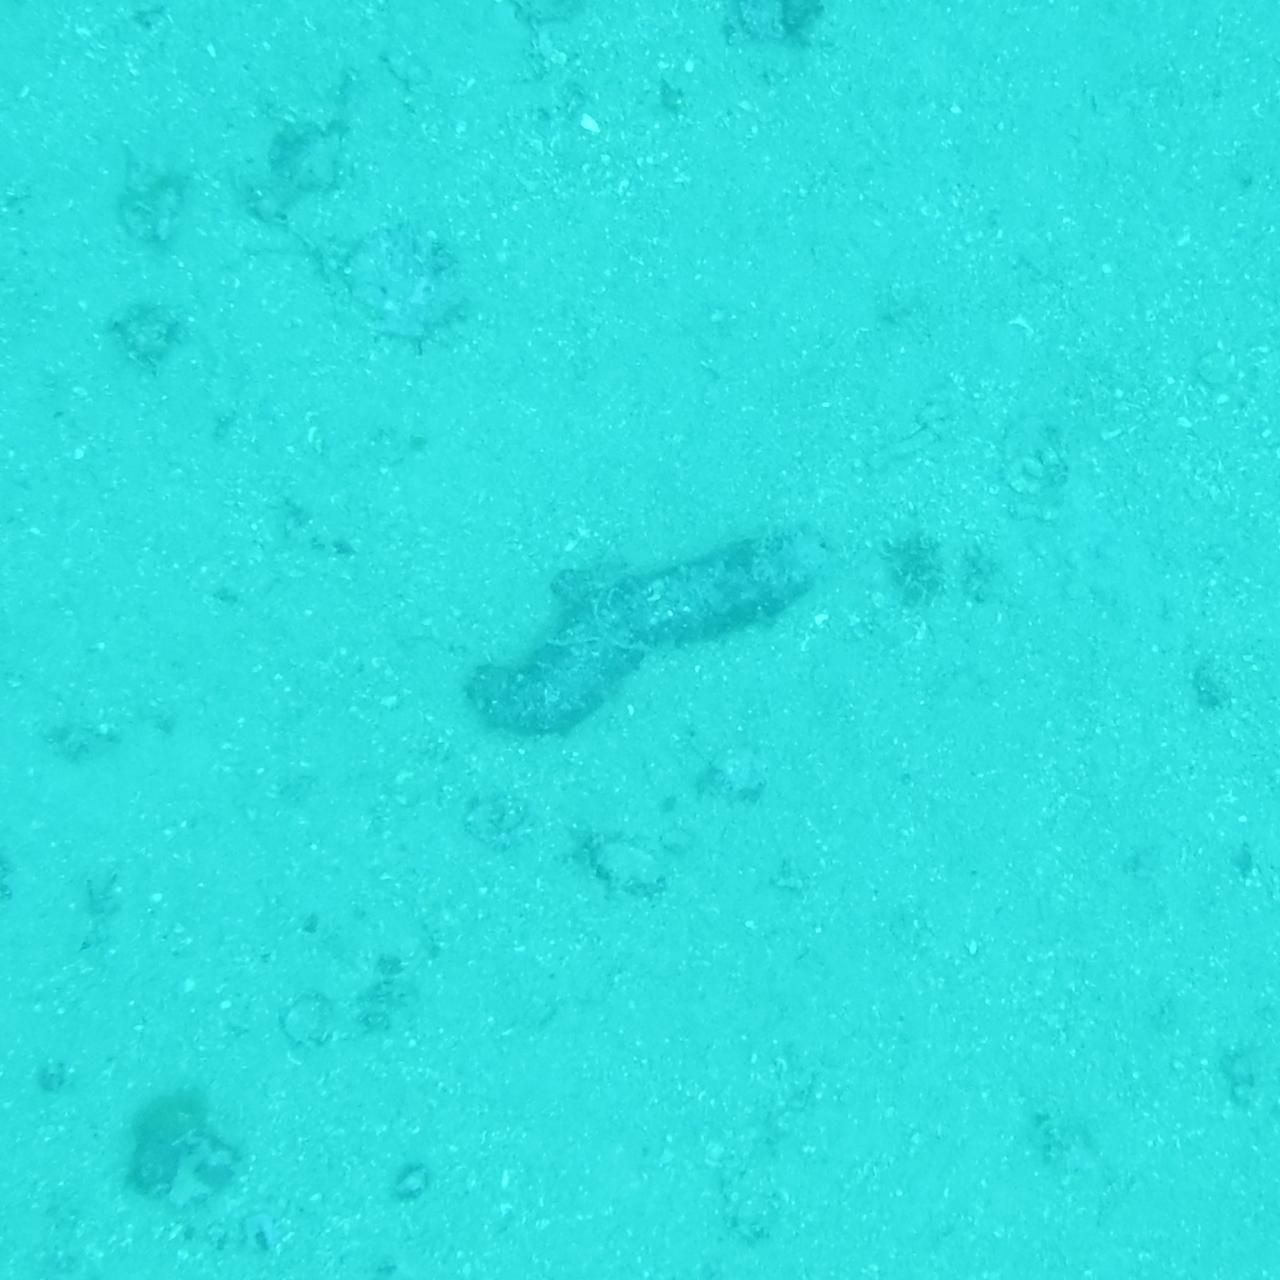Holothuria tubulosa: (458, 528, 822, 752)
